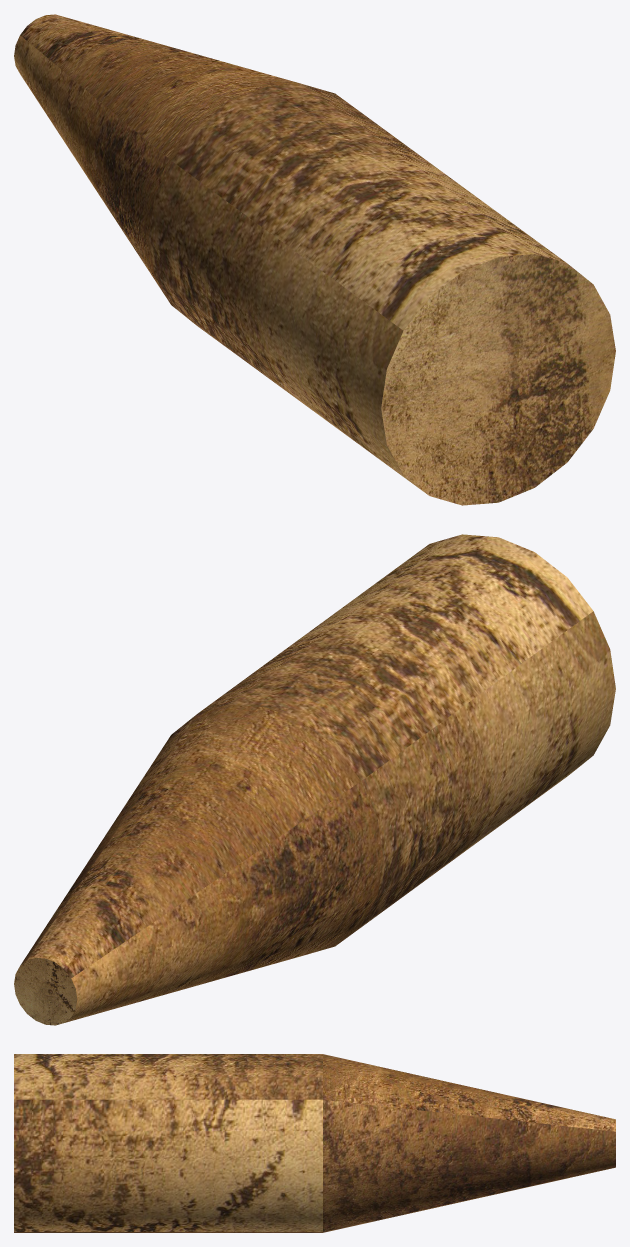
File: bullet.fbx
3 renders of one model, top to bottom at view 1: azimuth 30°, elevation 25°; view 2: azimuth 150°, elevation 25°; view 3: azimuth 270°, elevation 25°, orthographic. The views are drawn at different scales.
Parts seen in each view (by area): view 1: pCylinder1; view 2: pCylinder1; view 3: pCylinder1.
Part boxes in pixels (box(x1,y1,x2,y2)): pCylinder1: box(14, 14, 615, 505); pCylinder1: box(14, 534, 615, 1025); pCylinder1: box(14, 1054, 615, 1232).
Bounding box in the file's own units: 2.44 × 2.44 × 8.15.
Materials: 1 (1 with a texture image).
